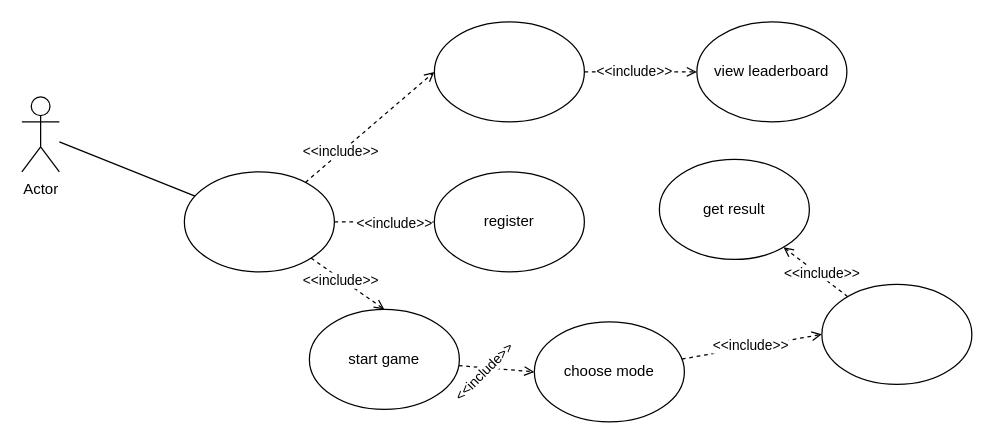
Image size: 994x444. Some labels were removed from this diagram. Each missing label, with the centre of its shape:
answer questions: the point at 896,333
login: the point at 508,71
main menu: the point at 258,221
